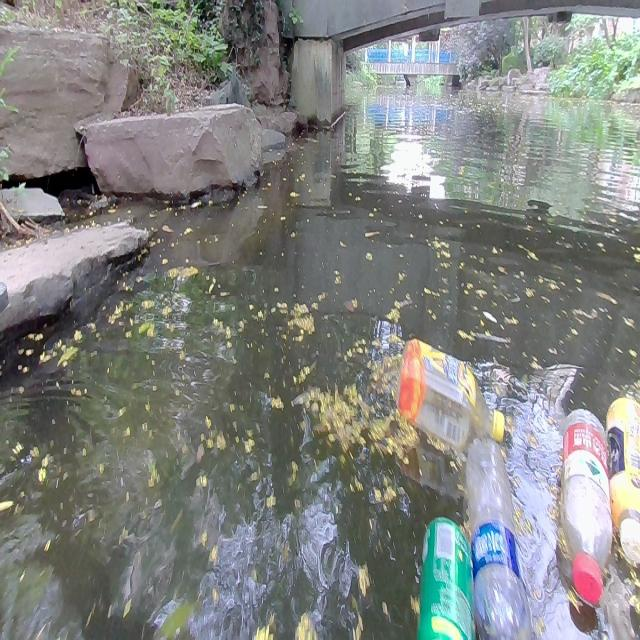bottle: (399, 336, 505, 444), (469, 437, 526, 635), (561, 411, 607, 605), (422, 517, 470, 639), (605, 397, 639, 560)
